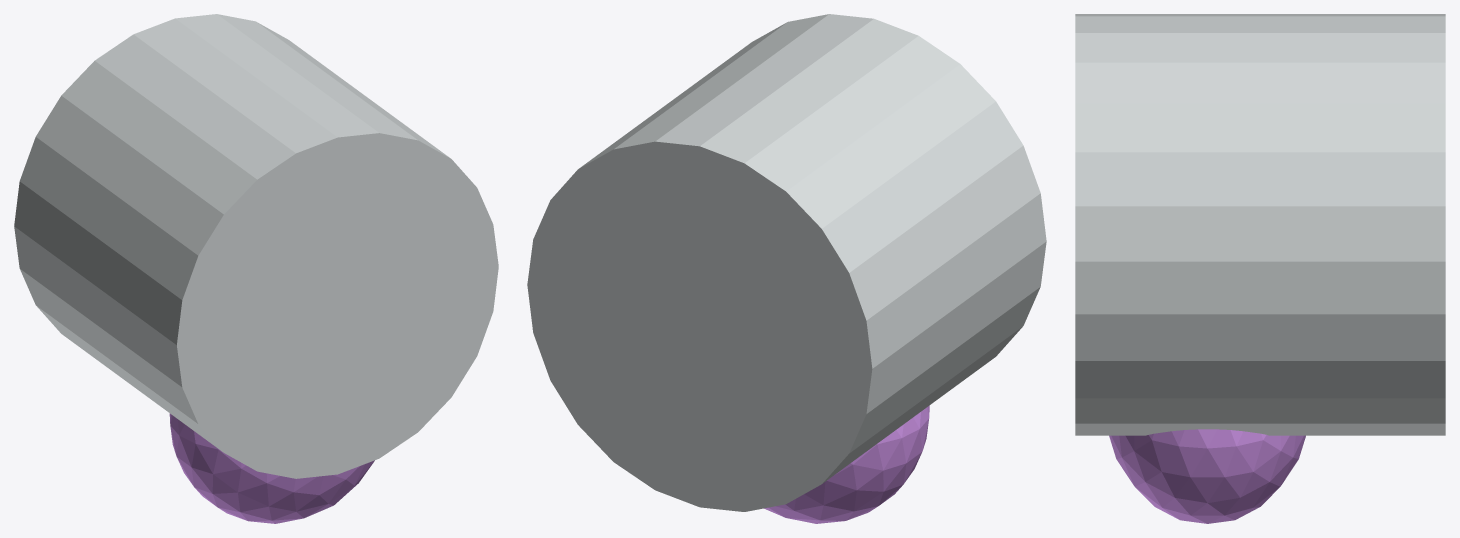
File: motion-sensor-pir.glb
3 renders of one model, left to right at view 1: azimuth 30°, elevation 25°; view 2: azimuth 150°, elevation 25°; view 3: azimuth 270°, elevation 25°, orthographic. The views are drawn at different scales.
Visible parts, largest first — view 1: world; view 2: world; view 3: world.
Boxes of the visible parts, box(x1,y1,x2,y2) form: world: box(14, 14, 498, 523); world: box(527, 14, 1046, 523); world: box(1075, 14, 1445, 523).
Size of the model in its own units: 0.32 by 0.4 by 0.28.
